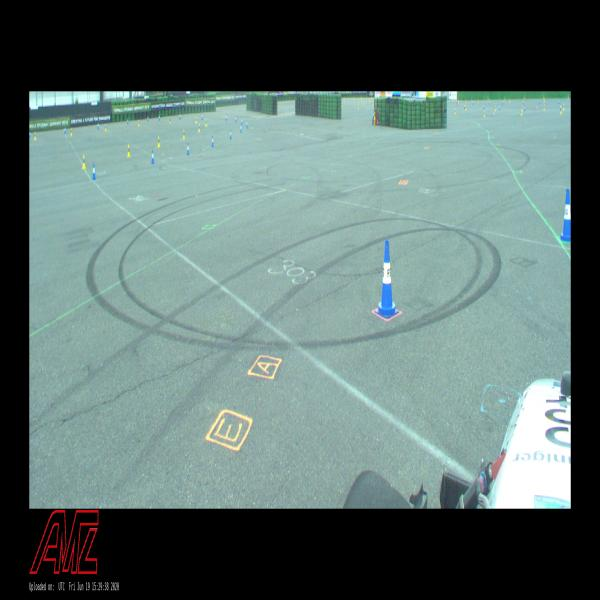blue_cone: (376, 242, 398, 316), (560, 189, 570, 241), (92, 164, 96, 179), (186, 143, 190, 154), (151, 150, 154, 164), (212, 136, 214, 147), (246, 120, 248, 128), (201, 113, 203, 120), (64, 127, 66, 134), (127, 118, 129, 125), (241, 118, 243, 125), (179, 113, 181, 120), (240, 126, 242, 132), (147, 116, 149, 122), (230, 129, 231, 139), (524, 106, 526, 111), (472, 101, 474, 105), (159, 114, 160, 121), (235, 116, 236, 122), (98, 123, 99, 129), (226, 115, 227, 120), (499, 105, 500, 110), (559, 100, 560, 104), (523, 100, 524, 104), (539, 100, 540, 104), (464, 104, 465, 108), (502, 101, 503, 104), (484, 104, 484, 109), (490, 101, 490, 105), (30, 130, 30, 138)
orange_cone: (493, 110, 494, 117), (458, 102, 458, 106)
yellow_cone: (82, 155, 86, 168), (128, 145, 130, 156), (158, 136, 160, 147), (183, 130, 185, 139), (70, 128, 72, 136), (34, 132, 36, 140), (205, 118, 207, 126), (105, 124, 107, 131), (560, 107, 562, 114), (563, 104, 565, 110), (138, 120, 140, 126), (454, 108, 456, 114), (543, 105, 545, 111), (195, 117, 197, 123), (199, 124, 200, 132), (524, 96, 526, 100), (495, 106, 496, 112), (521, 110, 522, 116), (341, 102, 342, 108), (170, 118, 171, 123), (465, 105, 466, 110), (509, 98, 510, 102), (544, 98, 545, 102), (568, 94, 569, 98), (477, 99, 478, 103), (369, 99, 370, 103), (461, 98, 462, 101), (484, 111, 484, 117), (522, 106, 522, 112), (544, 95, 544, 99), (364, 100, 364, 104), (358, 105, 358, 109), (505, 96, 505, 100)
